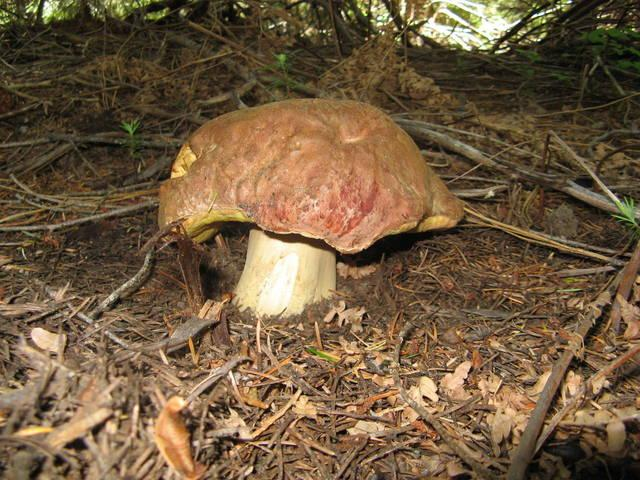Edible Mushroom: (156, 96, 464, 321)
